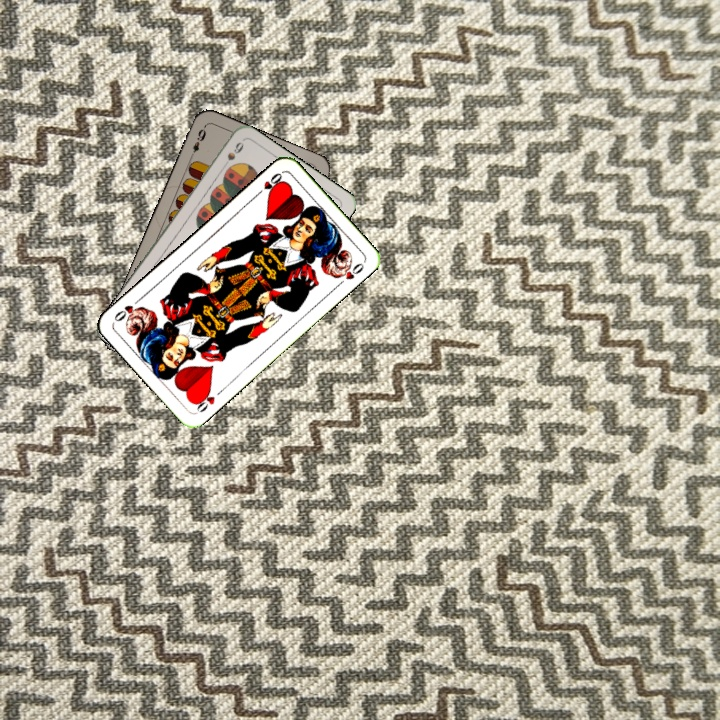E9: (186, 123, 209, 161)
HO: (190, 385, 226, 415), (252, 169, 285, 199)
S9: (217, 138, 247, 173)
